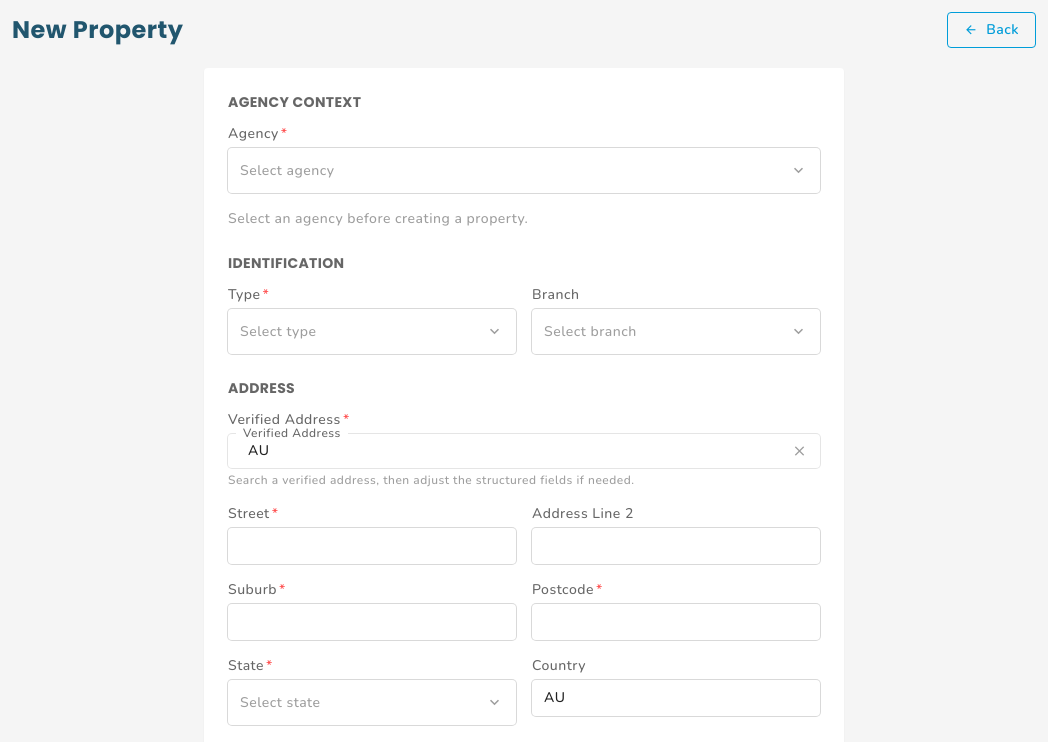
Test case: PropertyCreatePage › shows the Apartment field only when type is APARTMENT
Check: the field labelled "Apartment" is not shown
Click the button labelled "Select type": [278, 331] box [228,309,516,354]
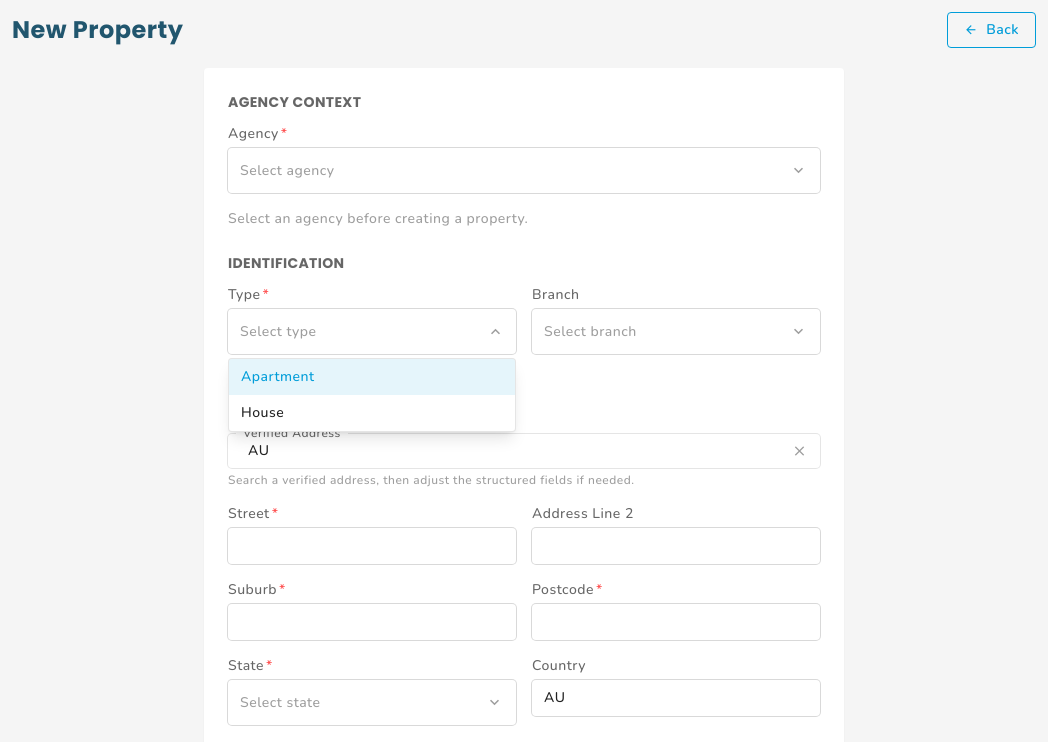
Click the option "Apartment": [278, 376] box [229,359,515,395]
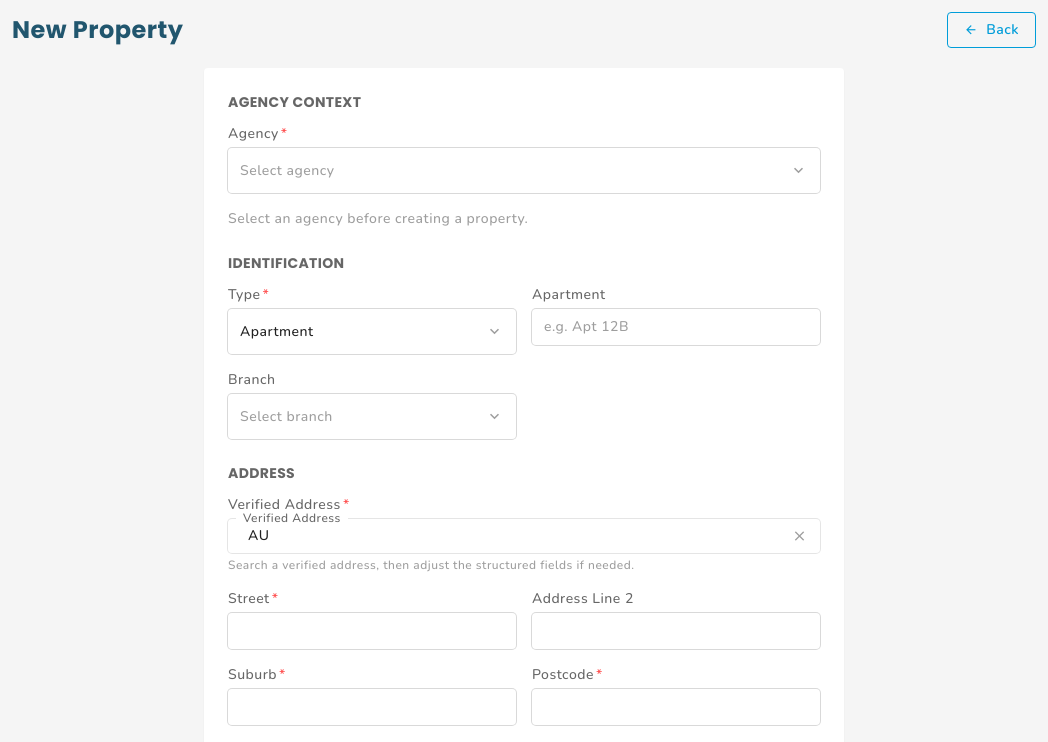
Check: the field named "Apartment" is shown, box [532,309,820,345]
Click the button with aria-label "Type": [277, 331] box [228,309,516,354]
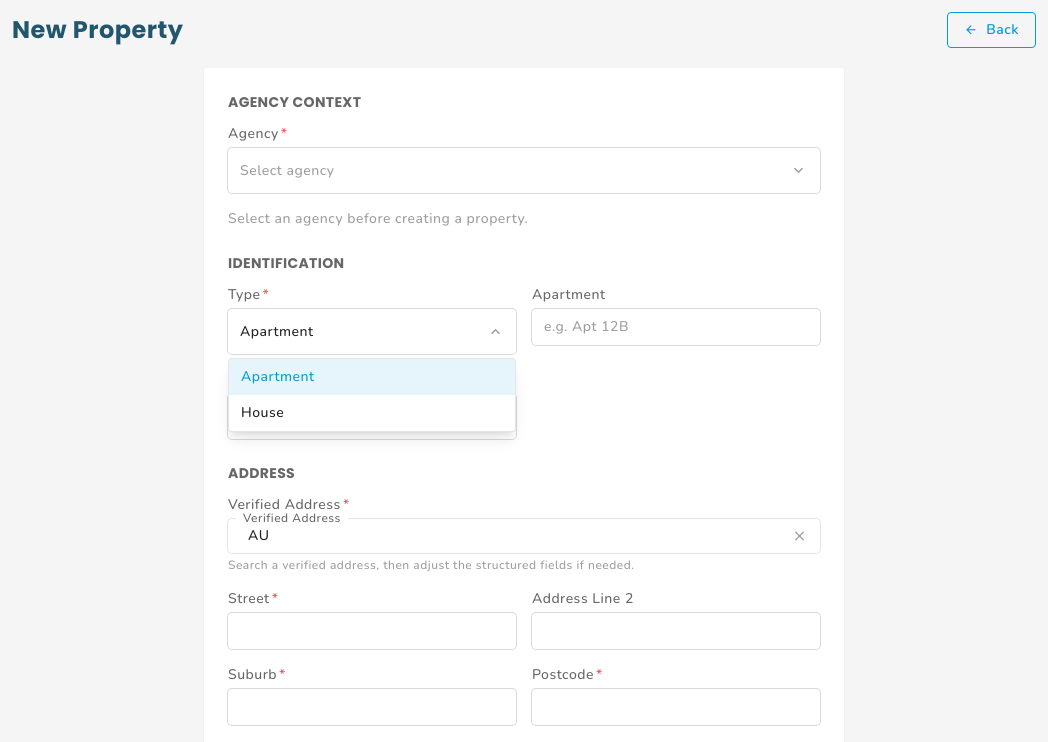
Click the option "House": [263, 412] box [241,403,284,422]
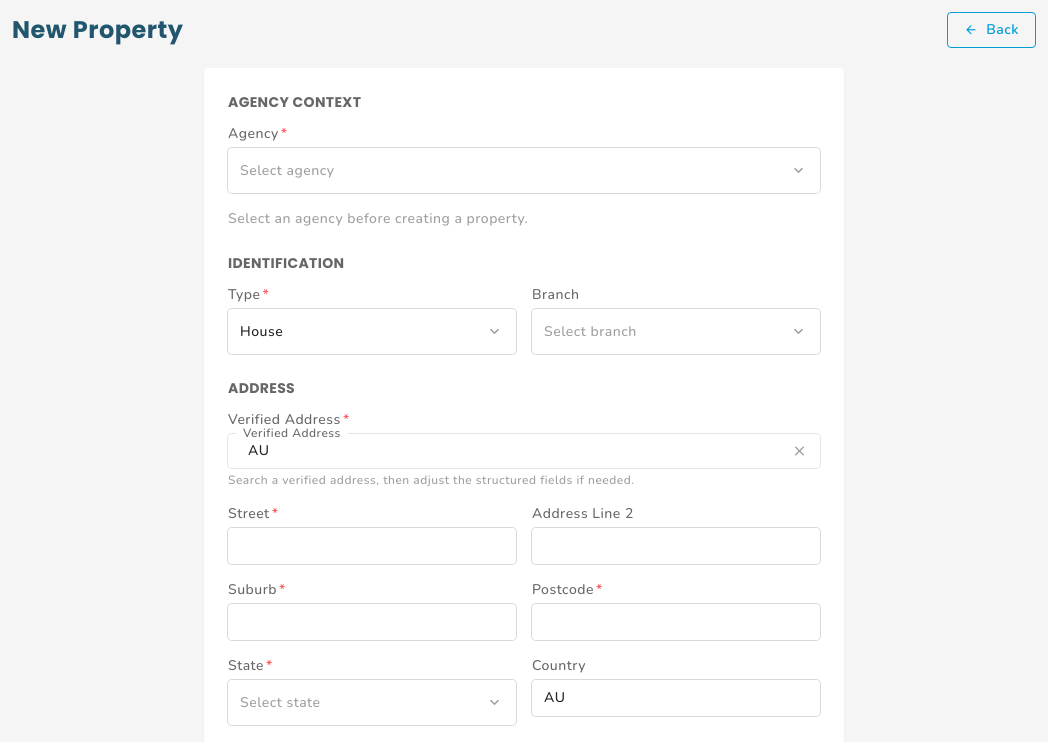
Check: the button labelled "Apartment" is gone
